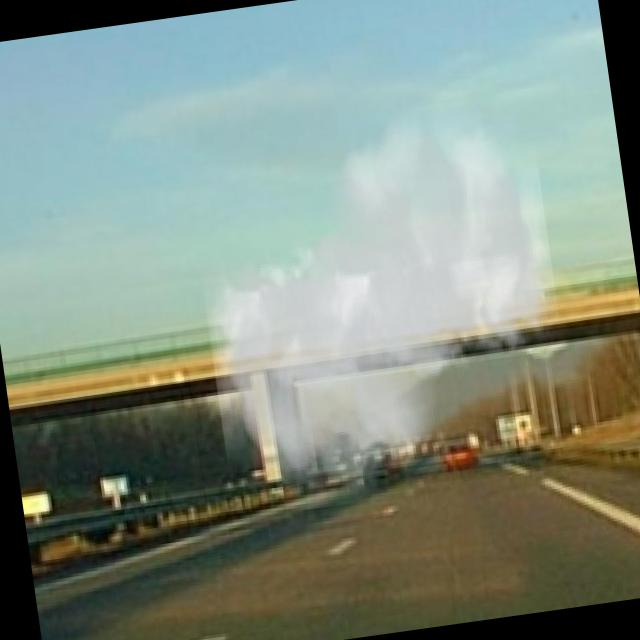Smoke: (183, 92, 581, 520)
